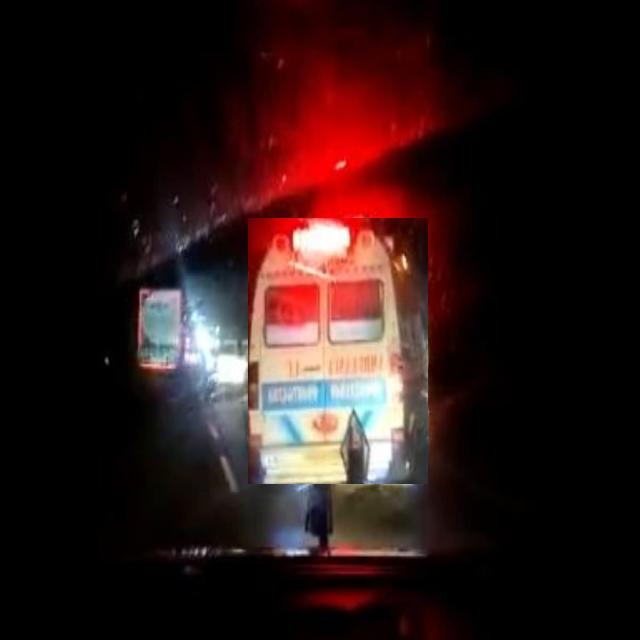emergency: (249, 219, 428, 484)
